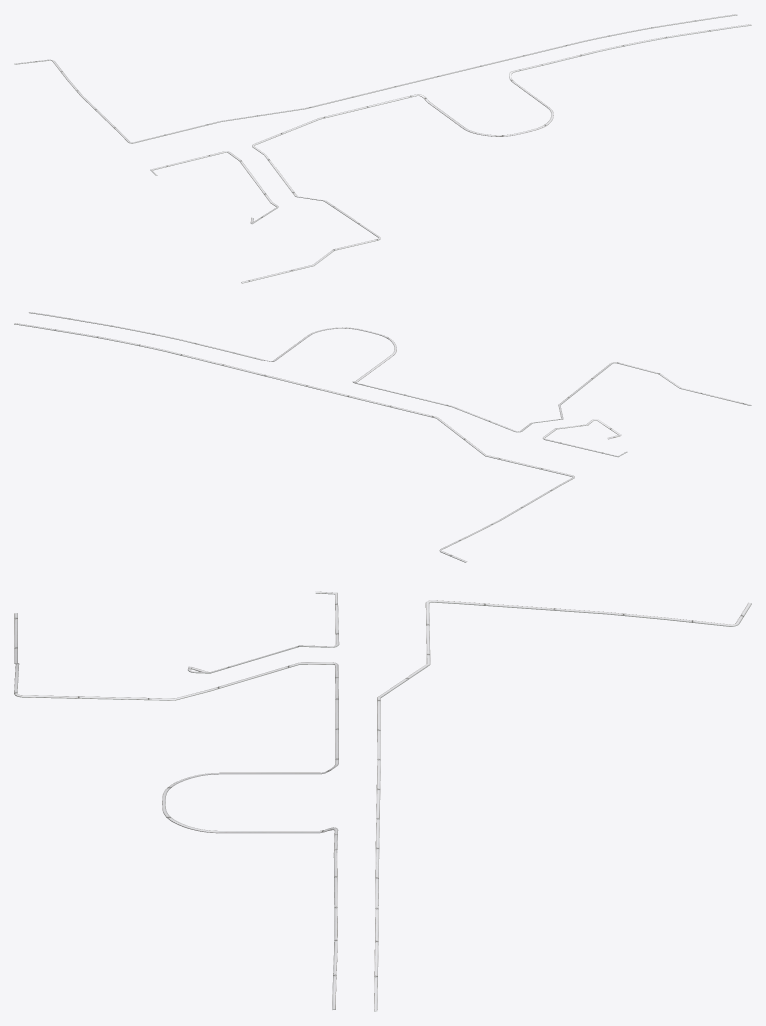
The model's file is STA20_RailingB01.FBX.
3 views of the same model, one above another, from view 1: azimuth 30°, elevation 25°; view 2: azimuth 150°, elevation 25°; view 3: azimuth 270°, elevation 25° (orthographic). The views are drawn at different scales.
Visible parts, largest first — view 1: STA20_RailingB01; view 2: STA20_RailingB01; view 3: STA20_RailingB01.
Part boxes in pixels (x1,y1,x2,y2): STA20_RailingB01: (14,14,751,283); STA20_RailingB01: (14,312,751,562); STA20_RailingB01: (14,591,751,1011).
Bounding box in the file's own units: 73.06 × 4.38 × 52.76.
